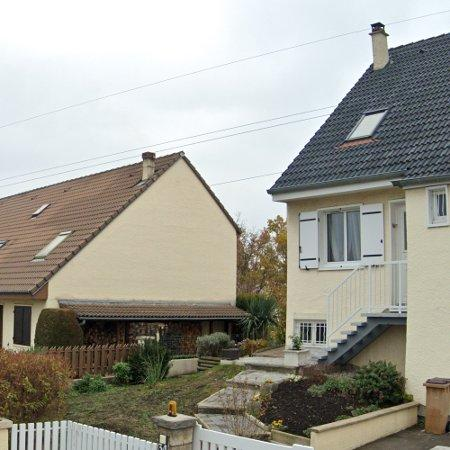chimneys: (370, 22, 390, 69), (142, 152, 156, 180)
